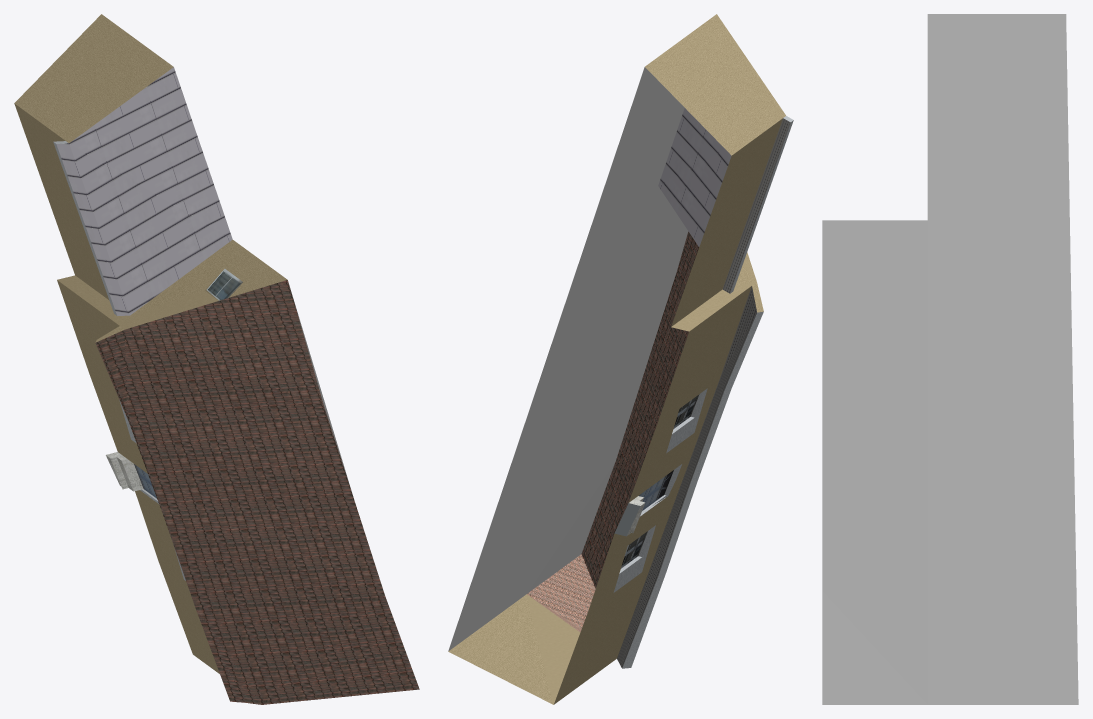
Rendered from Myyrivahe_62a_1-origo.obj.
The picture shows the model from 3 angles, left to right: view 1: azimuth 30°, elevation 25°; view 2: azimuth 150°, elevation 25°; view 3: azimuth 270°, elevation 25°; orthographic projection. The views are drawn at different scales.
Visible parts, largest first — view 1: Myyrivahe_62a_1; view 2: xxx, Myyrivahe_62a_1; view 3: xxx.
Boxes of the visible parts, x1,y1,x2,y2 form: Myyrivahe_62a_1: [14, 14, 419, 704]; xxx: [448, 67, 688, 704]; Myyrivahe_62a_1: [554, 14, 793, 704]; xxx: [822, 14, 1078, 704].
Bounding box in the file's own units: 8.88 × 19.5 × 7.14.
